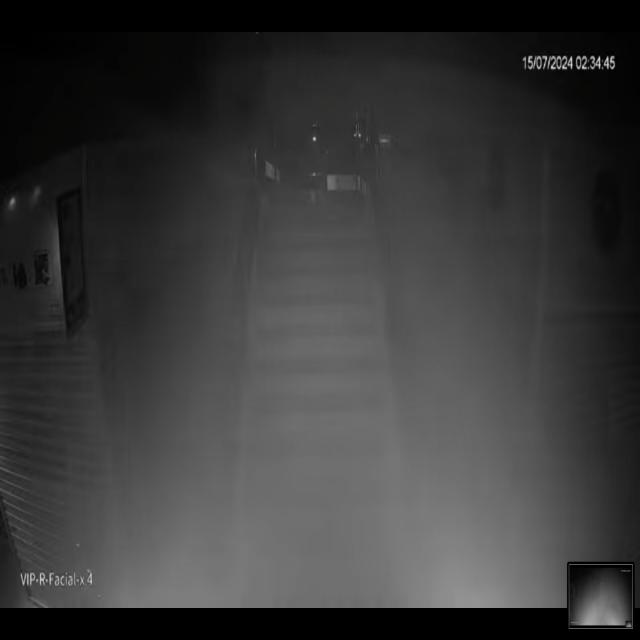Atencao: (107, 127, 554, 602)
